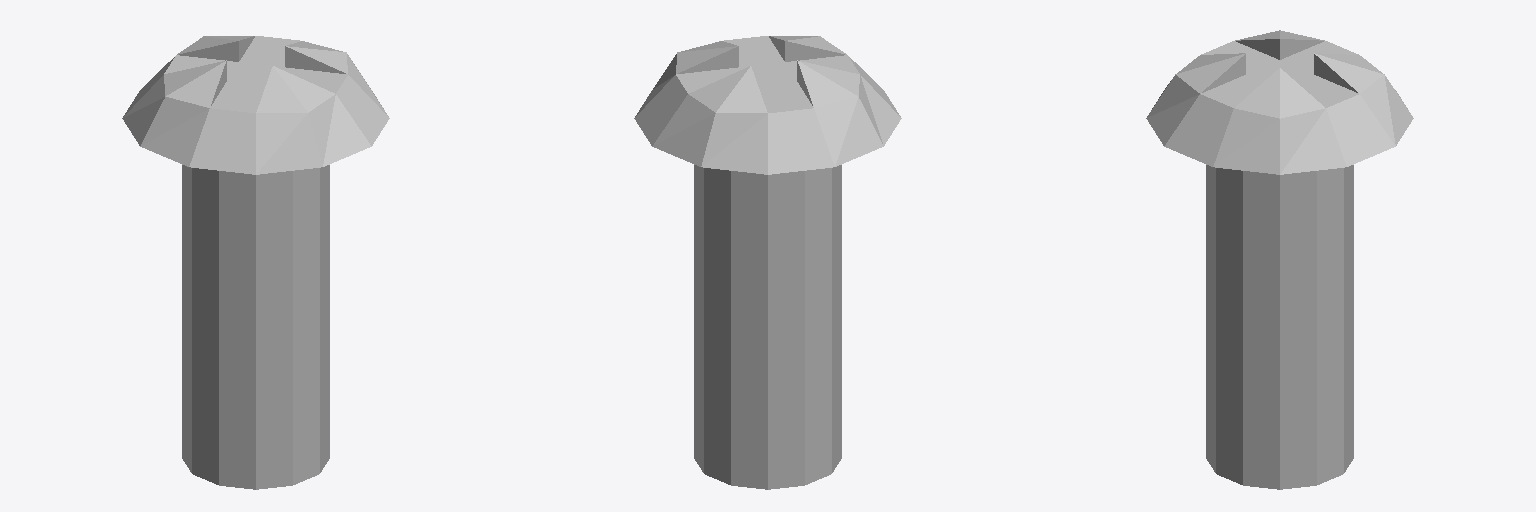
The model's file is Screw.obj.
3 views of the same model, side by side, from view 1: azimuth 30°, elevation 25°; view 2: azimuth 150°, elevation 25°; view 3: azimuth 270°, elevation 25° (orthographic).
Visible parts, largest first — view 1: Cylinder; view 2: Cylinder; view 3: Cylinder.
Part boxes in pixels (x1,y1,x2,y2): Cylinder: (122, 36, 389, 489); Cylinder: (634, 36, 901, 489); Cylinder: (1146, 30, 1413, 489).
Bounding box in the file's own units: 1.3 × 2.18 × 1.3.